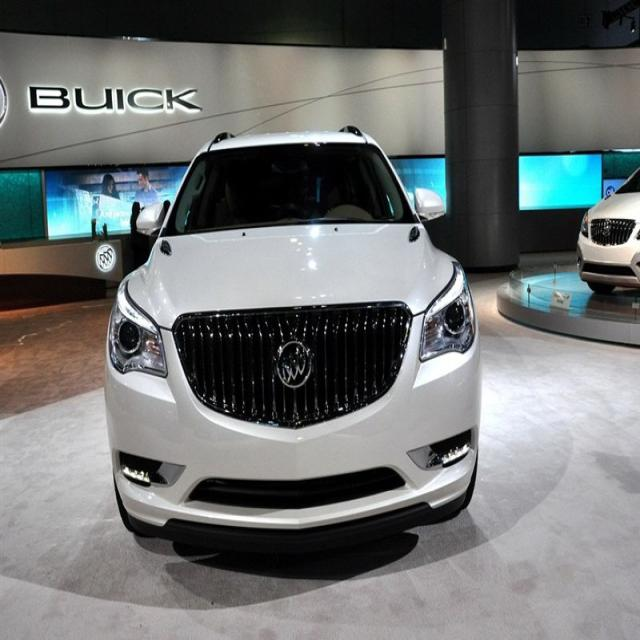front_bumper: (102, 351, 482, 533)
front_glass: (167, 143, 414, 237)
front_left_side_light: (419, 263, 477, 368)
front_left_side_mirror: (409, 180, 454, 226)
front_right_side_light: (106, 280, 172, 381)
front_right_side_mirror: (135, 198, 172, 242)
